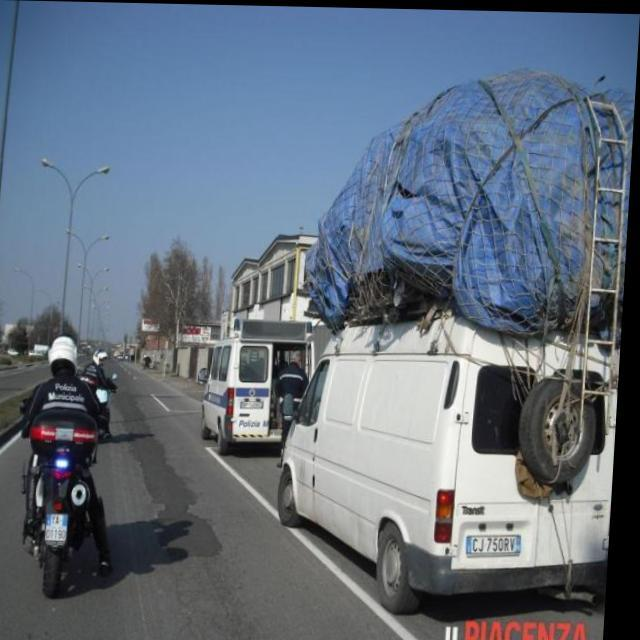covered: (214, 304, 325, 436)
uncovered: (279, 53, 638, 564)
